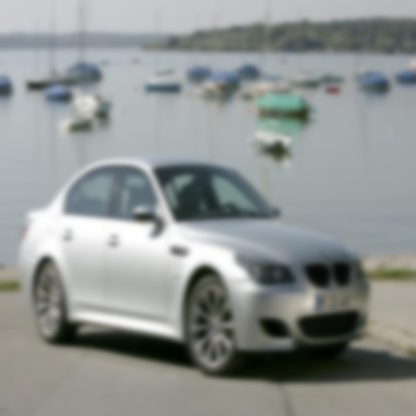Vehicle: (21, 156, 373, 376)
